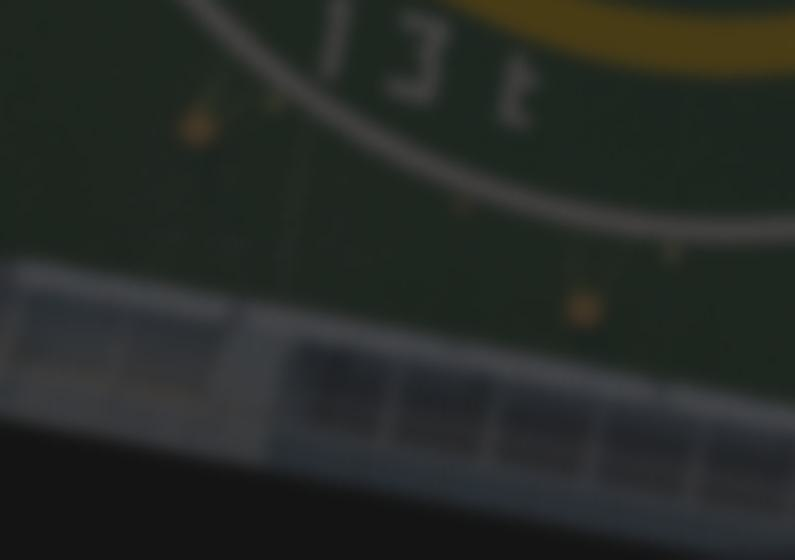Apron: (443, 1, 791, 92)
